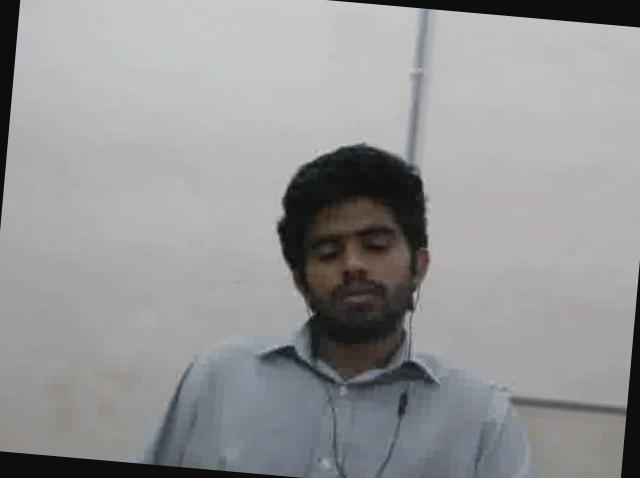bosan: (298, 199, 411, 327)
